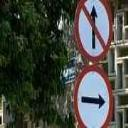NoSeguir: (74, 1, 110, 62)
